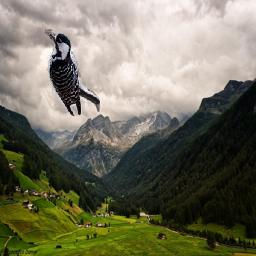Woodpecker: (46, 30, 101, 117)
